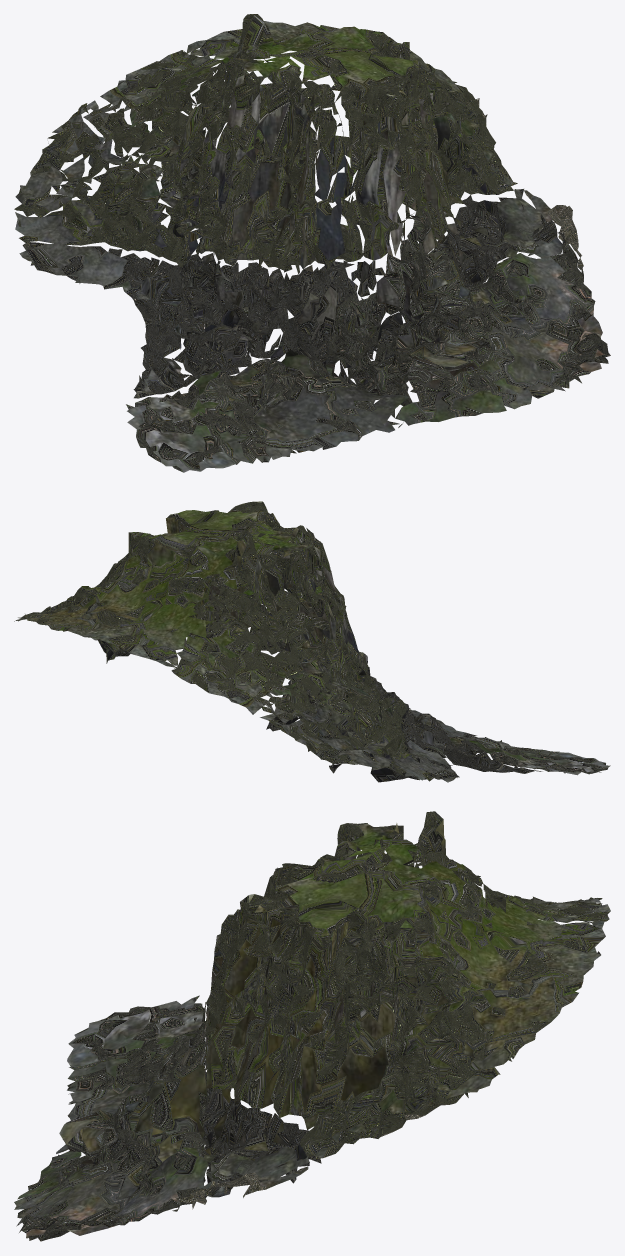
The picture shows the model from 3 angles, top to bottom: view 1: azimuth 30°, elevation 25°; view 2: azimuth 150°, elevation 25°; view 3: azimuth 270°, elevation 25°; orthographic projection. The views are drawn at different scales.
Parts seen in each view (by area): view 1: Object_3, Object_4, Object_2, Object_5; view 2: Object_2, Object_3, Object_5, Object_4; view 3: Object_2, Object_4, Object_3, Object_5.
Part boxes in pixels (x1,y1,x2,y2): Object_3: [14, 14, 435, 472]; Object_4: [19, 234, 610, 427]; Object_2: [15, 21, 583, 269]; Object_5: [78, 51, 565, 379]; Object_2: [14, 501, 434, 781]; Object_3: [162, 524, 610, 780]; Object_5: [116, 563, 479, 755]; Object_4: [187, 605, 542, 782]; Object_2: [172, 823, 605, 1211]; Object_4: [14, 1037, 231, 1241]; Object_3: [56, 811, 610, 1183]; Object_5: [201, 833, 602, 1197].
Bounding box in the file's own units: 43.74 × 27.6 × 39.92.
1 material, 1 textured.
